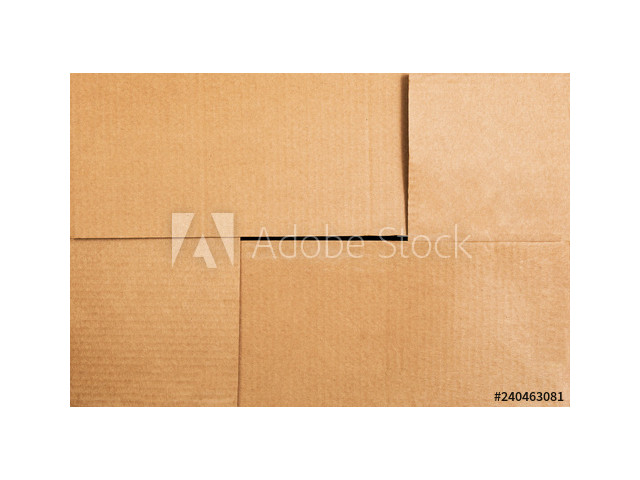cardboard: (73, 72, 568, 406)
